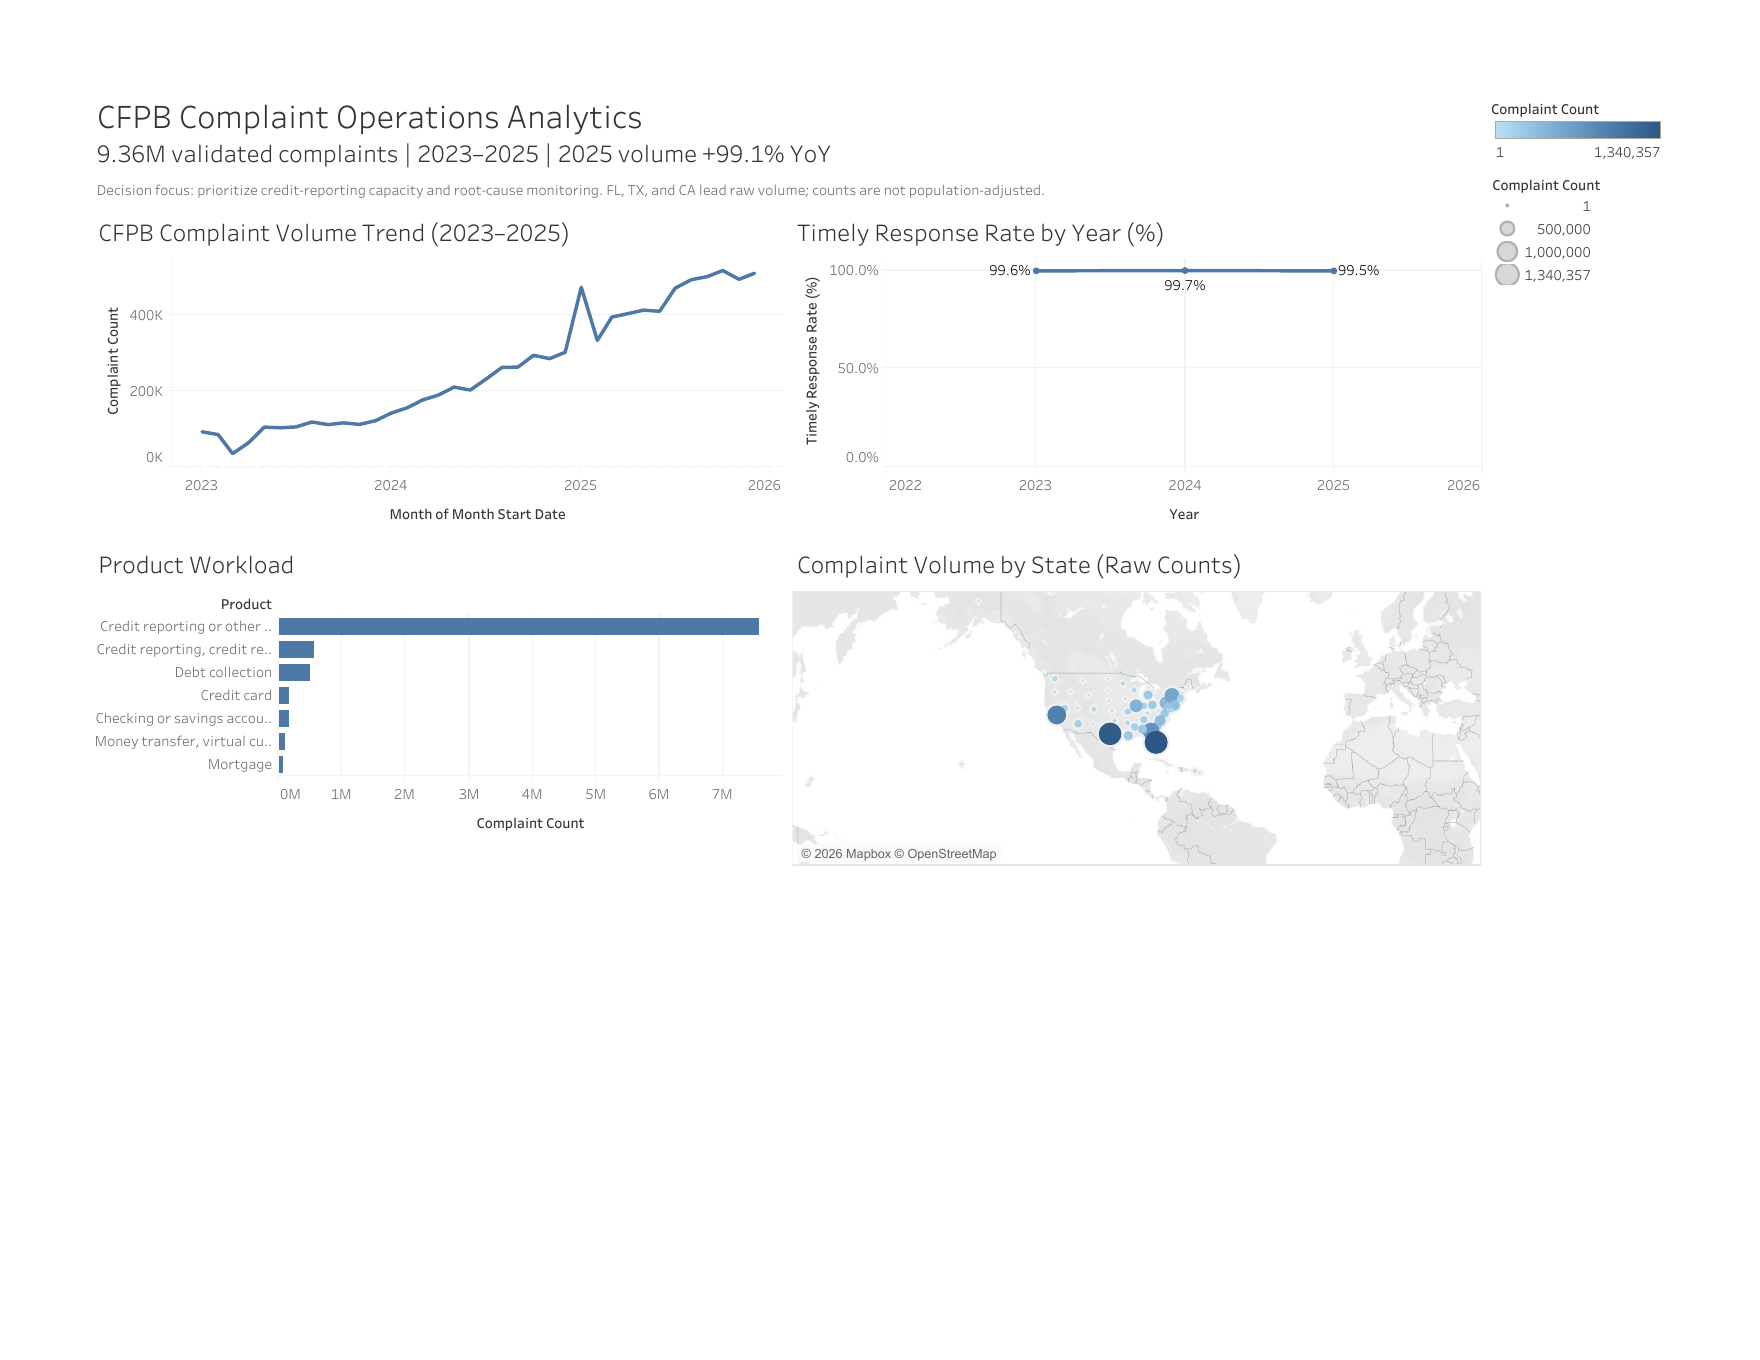

The page's visual inventory and layout, read from the dashboard file:
{"tool":"tableau","page":{"name":"Operations Overview","canvas":[1000,1000],"units":"permille","ordinal":0},"visuals":[{"type":"title","box":[6.9,11.5,848.6,106]},{"type":"legend","title":"State Map","param":"[federated.1qu4nrw00km2ei11gp7lx0xi77b8].[sum:complaint_count:qk]","box":[855.4,11.5,137.7,93.1]},{"type":"legend","title":"State Map","param":"[federated.1qu4nrw00km2ei11gp7lx0xi77b8].[sum:complaint_count:qk]","box":[855.4,104.6,137.7,151.9]},{"type":"text","box":[6.9,117.5,848.6,35.8]},{"type":"worksheet","title":"Monthly Trend","mark":"Automatic","rows":["complaint_count"],"cols":["Calculation_1388092159860736"],"box":[6.9,153.3,424.3,417.6]},{"type":"worksheet","title":"Timely Response Rate","mark":"Line","rows":["Calculation_0267072451584000"],"cols":["year"],"box":[431.2,153.3,424.3,417.6]},{"type":"worksheet","title":"Product Workload","mark":"Automatic","rows":["product"],"cols":["complaint_count"],"box":[6.9,570.9,424.3,417.6]},{"type":"worksheet","title":"State Map","mark":"Automatic","box":[431.2,570.9,424.3,417.6]}]}

Visuals, with their boxes on the dashboard's canvas, which has no fixed pixel size, in thousandths of its width and height (x1, y1, x2, y2). These are canvas units, not pixel positions in the 1760x1360 screenshot, which may show the page scaled, cropped or inside an application window:
title: x1=7, y1=12, x2=856, y2=118
"State Map" legend: x1=855, y1=12, x2=993, y2=105
"State Map" legend: x1=855, y1=105, x2=993, y2=256
text: x1=7, y1=118, x2=856, y2=153
"Monthly Trend" worksheet: x1=7, y1=153, x2=431, y2=571
"Timely Response Rate" worksheet (Line marks): x1=431, y1=153, x2=856, y2=571
"Product Workload" worksheet: x1=7, y1=571, x2=431, y2=988
"State Map" worksheet: x1=431, y1=571, x2=856, y2=988
